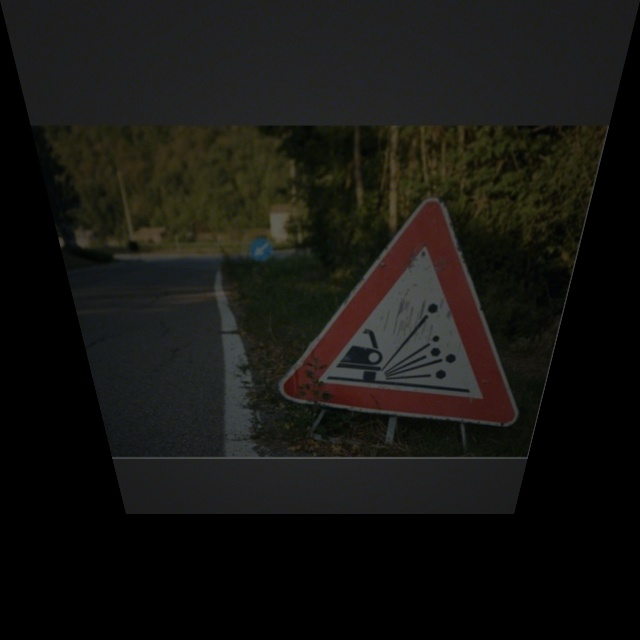Loose_Gravel: (282, 195, 561, 425)
